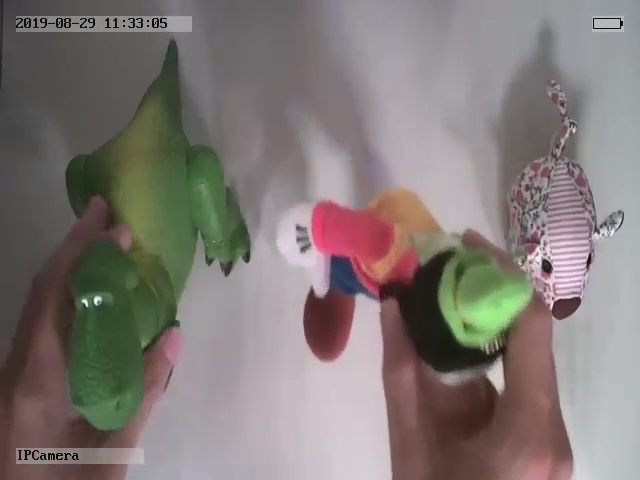pig: (508, 78, 624, 319)
rex: (63, 38, 251, 431)
